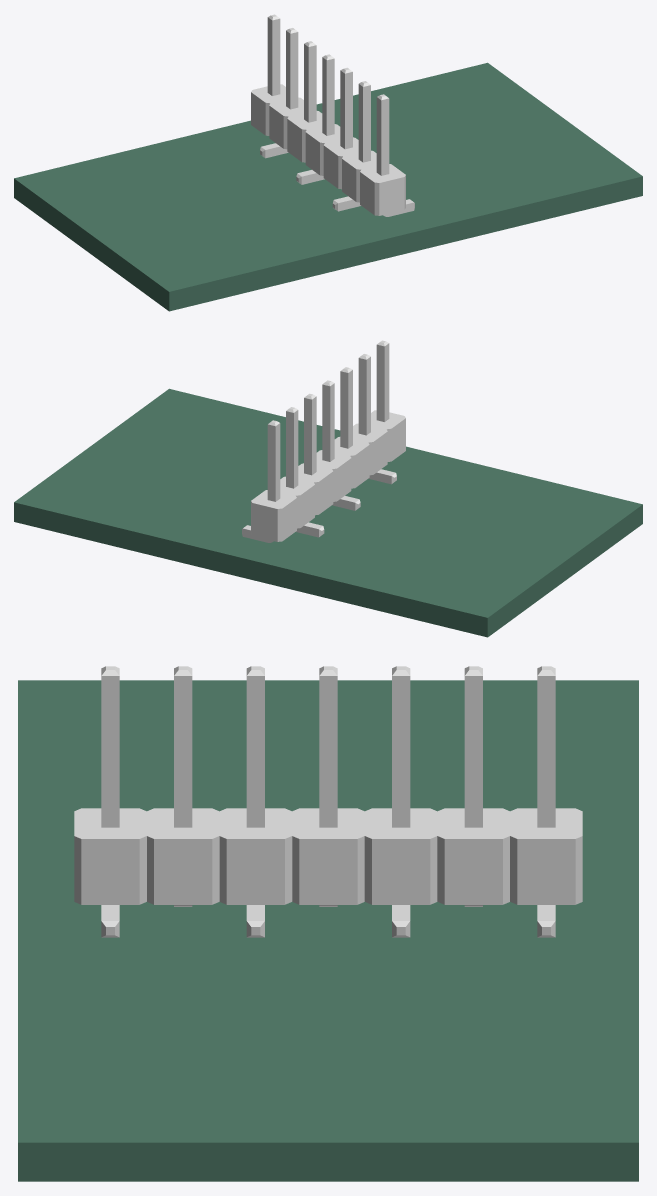
The model's file is Connector_PinHeader_2.54mm_PinHeader_1x07_P2.54mm_Vertical_SMD_Pin1Right.glb.
3 renders of one model, top to bottom at view 1: azimuth 30°, elevation 25°; view 2: azimuth 150°, elevation 25°; view 3: azimuth 270°, elevation 25°, orthographic. The views are drawn at different scales.
Parts seen in each view (by area): view 1: =>[0:1:1:3], REF**; view 2: =>[0:1:1:3], REF**; view 3: =>[0:1:1:3], REF**.
Boxes of the visible parts, x1=… form: =>[0:1:1:3]: x1=14, y1=62, x2=642, y2=311; REF**: x1=251, y1=14, x2=414, y2=216; =>[0:1:1:3]: x1=14, y1=388, x2=642, y2=637; REF**: x1=242, y1=340, x2=405, y2=542; =>[0:1:1:3]: x1=18, y1=680, x2=638, y2=1181; REF**: x1=74, y1=666, x2=582, y2=937.
Size of the model in its own units: 0.0383 by 0.0109 by 0.0217.
